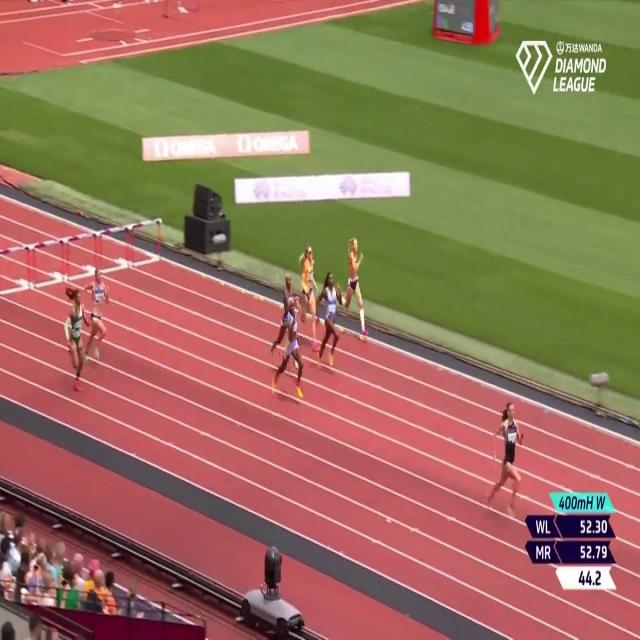athlete: (487, 397, 526, 520), (339, 232, 372, 348), (297, 235, 321, 355), (276, 263, 301, 368), (281, 294, 305, 403), (88, 267, 113, 370), (319, 266, 341, 373), (70, 288, 86, 393)
hurdle: (64, 226, 100, 284), (1, 242, 34, 298), (130, 216, 164, 270), (32, 238, 66, 292), (98, 222, 130, 275)
